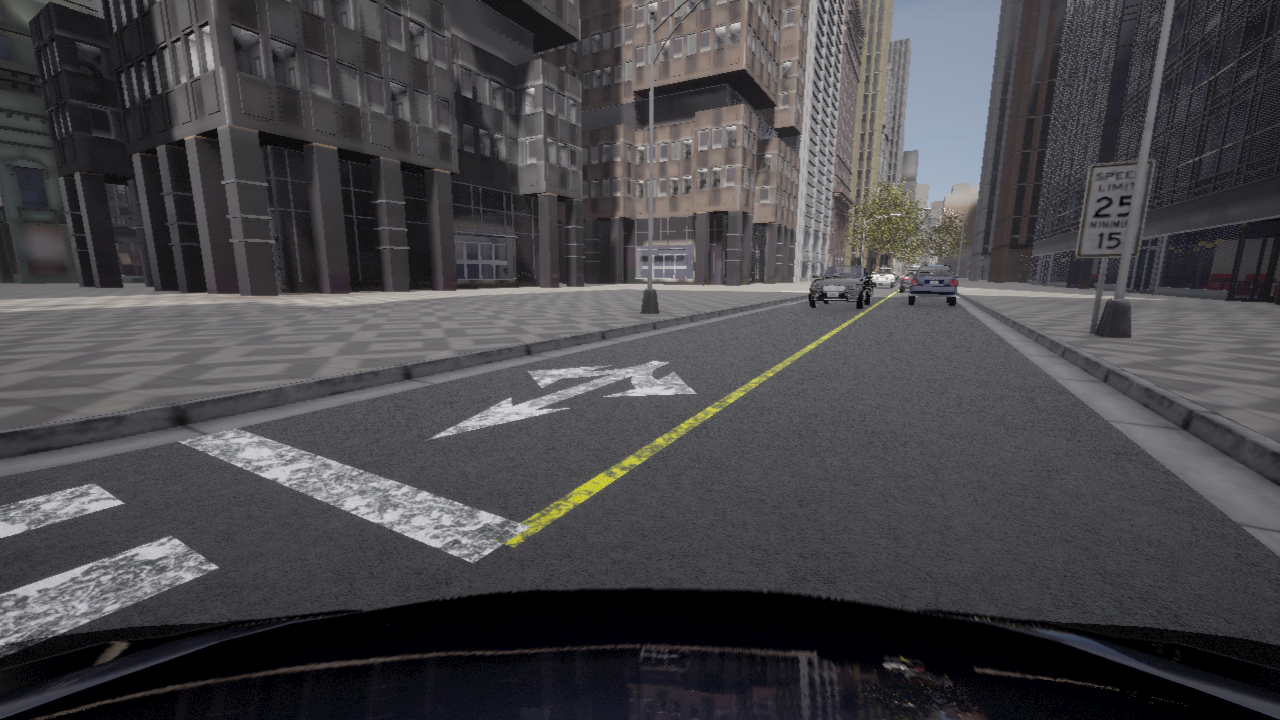cyclist: (0, 588, 1279, 719), (908, 268, 931, 282), (833, 278, 869, 279)
